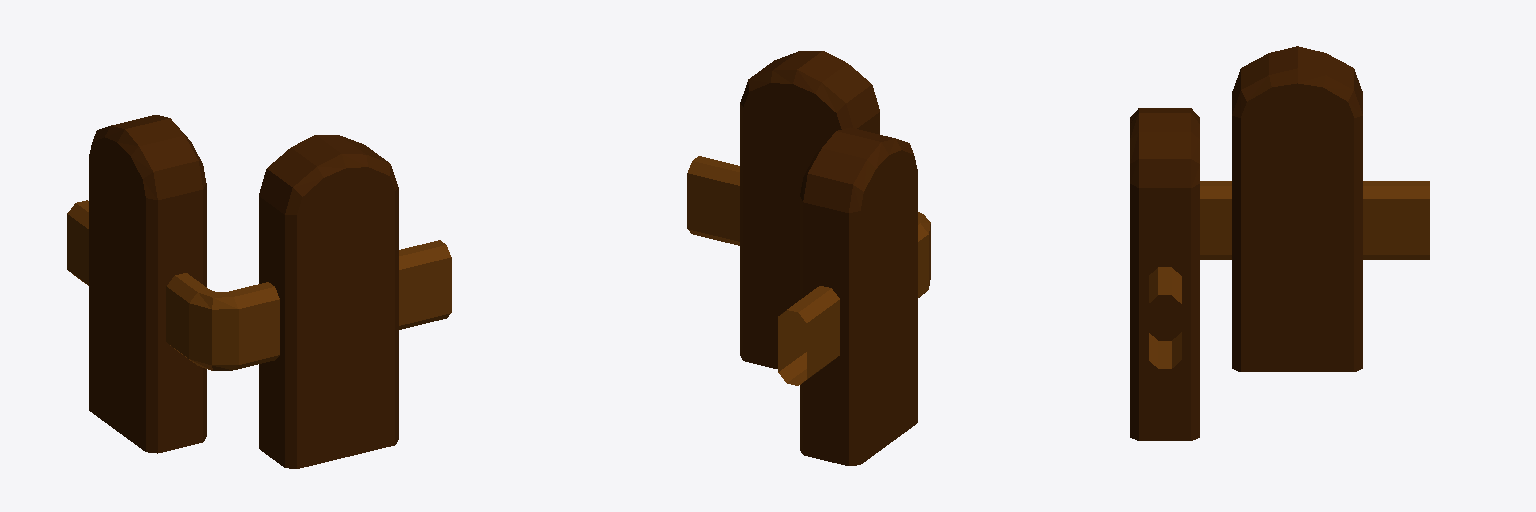
Rendered from Fence_Corner.obj.
3 views of the same model, side by side, from view 1: azimuth 30°, elevation 25°; view 2: azimuth 150°, elevation 25°; view 3: azimuth 270°, elevation 25° (orthographic).
Parts seen in each view (by area): view 1: Fence_Corner_Cube.023; view 2: Fence_Corner_Cube.023; view 3: Fence_Corner_Cube.023.
Part boxes in pixels (bbox=[...]): Fence_Corner_Cube.023: bbox=[67, 115, 451, 468]; Fence_Corner_Cube.023: bbox=[687, 51, 930, 465]; Fence_Corner_Cube.023: bbox=[1130, 46, 1429, 440].
Size of the model in its own units: 1.13 by 1.25 by 1.13.